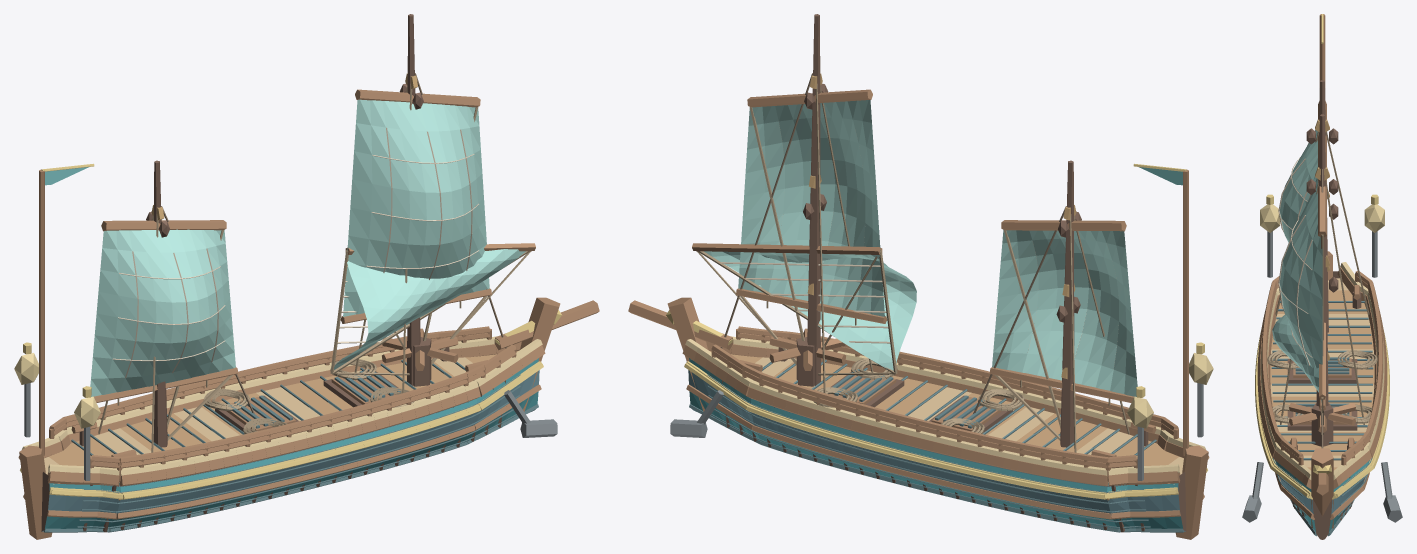
The model's file is mist_seeker-v5-mobile.glb.
3 views of the same model, side by side, from view 1: azimuth 30°, elevation 25°; view 2: azimuth 150°, elevation 25°; view 3: azimuth 270°, elevation 25° (orthographic). The views are drawn at different scales.
Parts seen in each view (by area): view 1: mist_seeker_sails_mint, mist_seeker_hull_hull2, mist_seeker_railings_hull2, mist_seeker_hull_ghostdark, mist_seeker_hull_pale, mist_seeker_hull_teal, mist_seeker_hull_blue, mist_seeker_hull_wood, mist_seeker_rigging_hull2, mist_seeker_hull_gold, mist_seeker_hull_decklight, mist_seeker_rigging_sailshade (+11 smaller); view 2: mist_seeker_sails_mint, mist_seeker_hull_hull2, mist_seeker_railings_hull2, mist_seeker_hull_ghostdark, mist_seeker_masts_darkwood, mist_seeker_rigging_hull2, mist_seeker_hull_teal, mist_seeker_hull_pale, mist_seeker_hull_blue, mist_seeker_hull_wood, mist_seeker_hull_gold, mist_seeker_rigging_rope (+12 smaller); view 3: mist_seeker_sails_mint, mist_seeker_hull_hull2, mist_seeker_hull_wood, mist_seeker_railings_hull2, mist_seeker_hull_ghostdark, mist_seeker_hull_decklight, mist_seeker_masts_darkwood, mist_seeker_fittings_iron, mist_seeker_hull_gold, mist_seeker_hull_pale, mist_seeker_fittings_darkwood, mist_seeker_fittings_hull2 (+14 smaller).
Boxes of the visible parts, box(x1,y1,x2,y2) form: mist_seeker_sails_mint: box(90, 99, 525, 396); mist_seeker_hull_hull2: box(18, 297, 599, 539); mist_seeker_railings_hull2: box(49, 326, 516, 481); mist_seeker_hull_ghostdark: box(44, 359, 538, 532); mist_seeker_hull_pale: box(22, 336, 542, 476); mist_seeker_hull_teal: box(45, 358, 538, 528); mist_seeker_hull_blue: box(42, 370, 539, 531); mist_seeker_hull_wood: box(49, 351, 517, 482); mist_seeker_rigging_hull2: box(94, 89, 535, 402); mist_seeker_hull_gold: box(20, 361, 543, 499); mist_seeker_hull_decklight: box(44, 357, 472, 484); mist_seeker_rigging_sailshade: box(112, 127, 478, 378); mist_seeker_sails_mint: box(704, 100, 1137, 396); mist_seeker_hull_hull2: box(628, 297, 1209, 539); mist_seeker_railings_hull2: box(711, 326, 1178, 481); mist_seeker_hull_ghostdark: box(689, 359, 1183, 532); mist_seeker_masts_darkwood: box(803, 14, 1081, 447); mist_seeker_rigging_hull2: box(692, 89, 1133, 402); mist_seeker_hull_teal: box(689, 358, 1182, 528); mist_seeker_hull_pale: box(685, 336, 1205, 476); mist_seeker_hull_blue: box(688, 370, 1185, 531); mist_seeker_hull_wood: box(710, 351, 1178, 482); mist_seeker_hull_gold: box(684, 361, 1207, 499); mist_seeker_rigging_rope: box(697, 107, 1110, 440); mist_seeker_sails_mint: box(1272, 130, 1322, 402); mist_seeker_hull_hull2: box(1257, 251, 1387, 528); mist_seeker_hull_wood: box(1270, 290, 1374, 470); mist_seeker_railings_hull2: box(1261, 271, 1383, 465); mist_seeker_hull_ghostdark: box(1271, 300, 1373, 536); mist_seeker_hull_decklight: box(1270, 278, 1374, 467); mist_seeker_masts_darkwood: box(1306, 80, 1338, 406); mist_seeker_fittings_iron: box(1242, 231, 1402, 522); mist_seeker_hull_gold: box(1255, 330, 1389, 499); mist_seeker_hull_pale: box(1260, 262, 1384, 479); mist_seeker_fittings_darkwood: box(1287, 291, 1361, 449); mist_seeker_fittings_hull2: box(1289, 285, 1360, 449).
Bounding box in the file's own units: 42.12 × 30.41 × 11.66.
